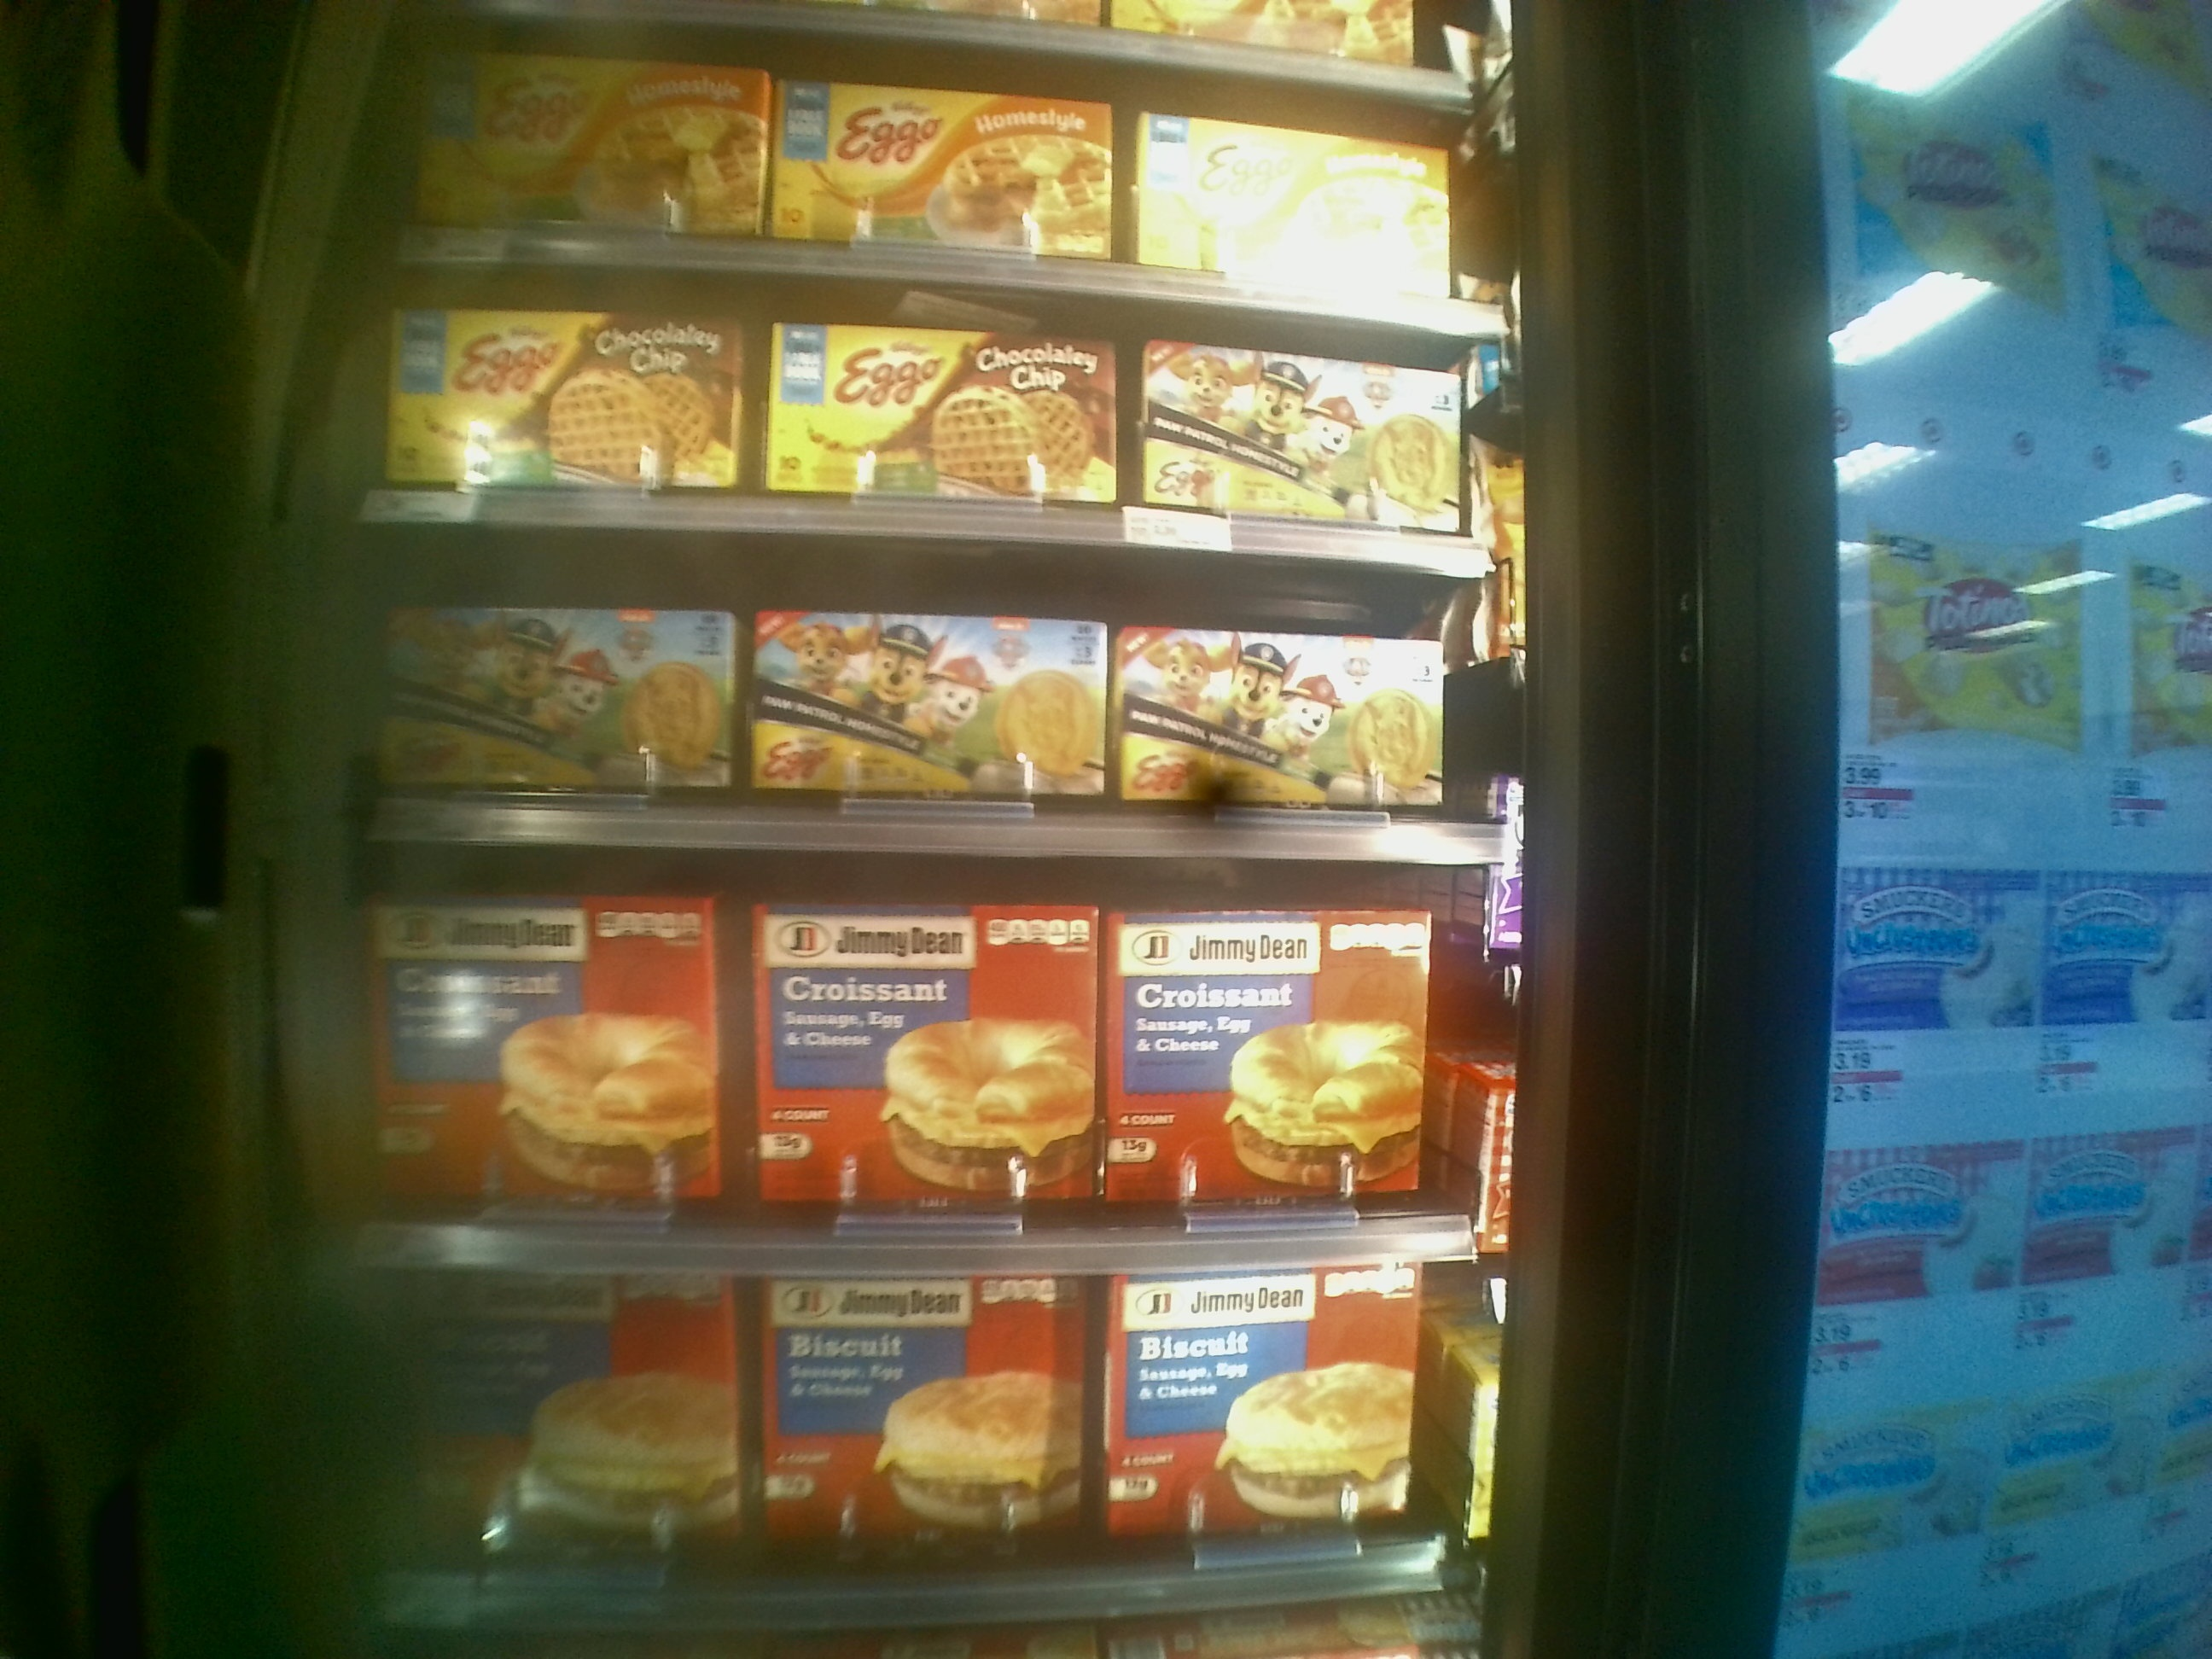frozen-food-shelf: (359, 838, 1496, 1269), (366, 528, 1496, 854)
